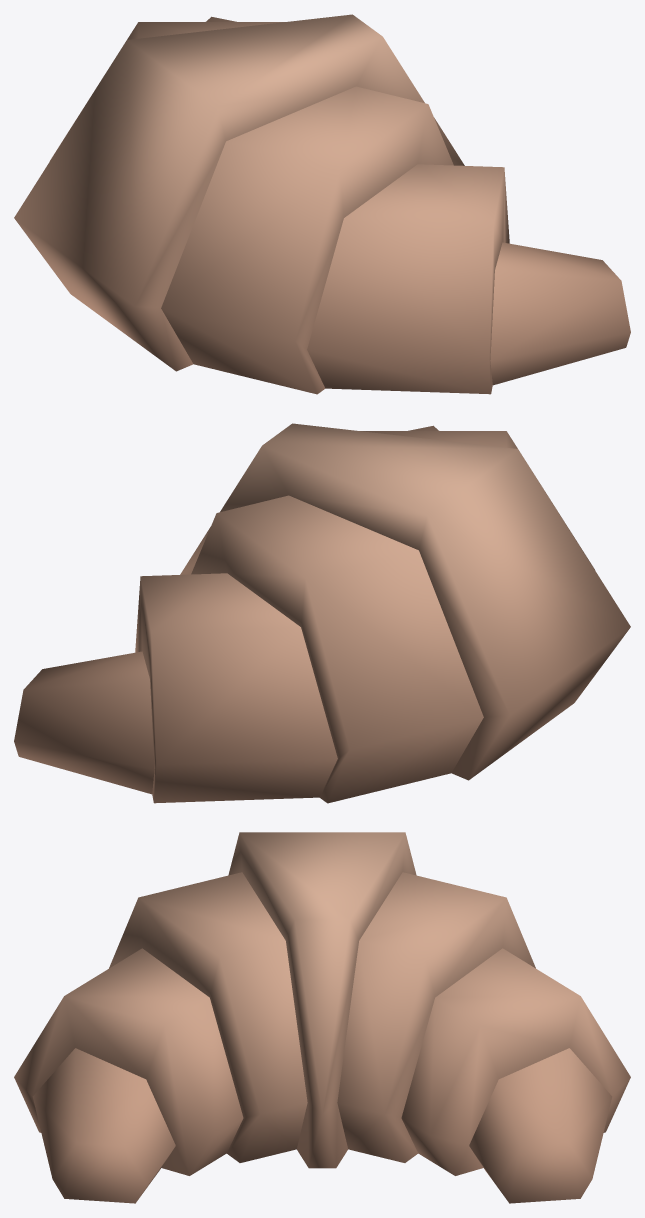
The model's file is croissant.glb.
3 renders of one model, top to bottom at view 1: azimuth 30°, elevation 25°; view 2: azimuth 150°, elevation 25°; view 3: azimuth 270°, elevation 25°, orthographic. The views are drawn at different scales.
Parts seen in each view (by area): view 1: croissant; view 2: croissant; view 3: croissant.
Part boxes in pixels (left/top/right/bottom): croissant: left=14, top=14, right=630, bottom=394; croissant: left=14, top=423, right=630, bottom=803; croissant: left=14, top=832, right=630, bottom=1203.
Size of the model in its own units: 0.3461 by 0.1936 by 0.4777.
